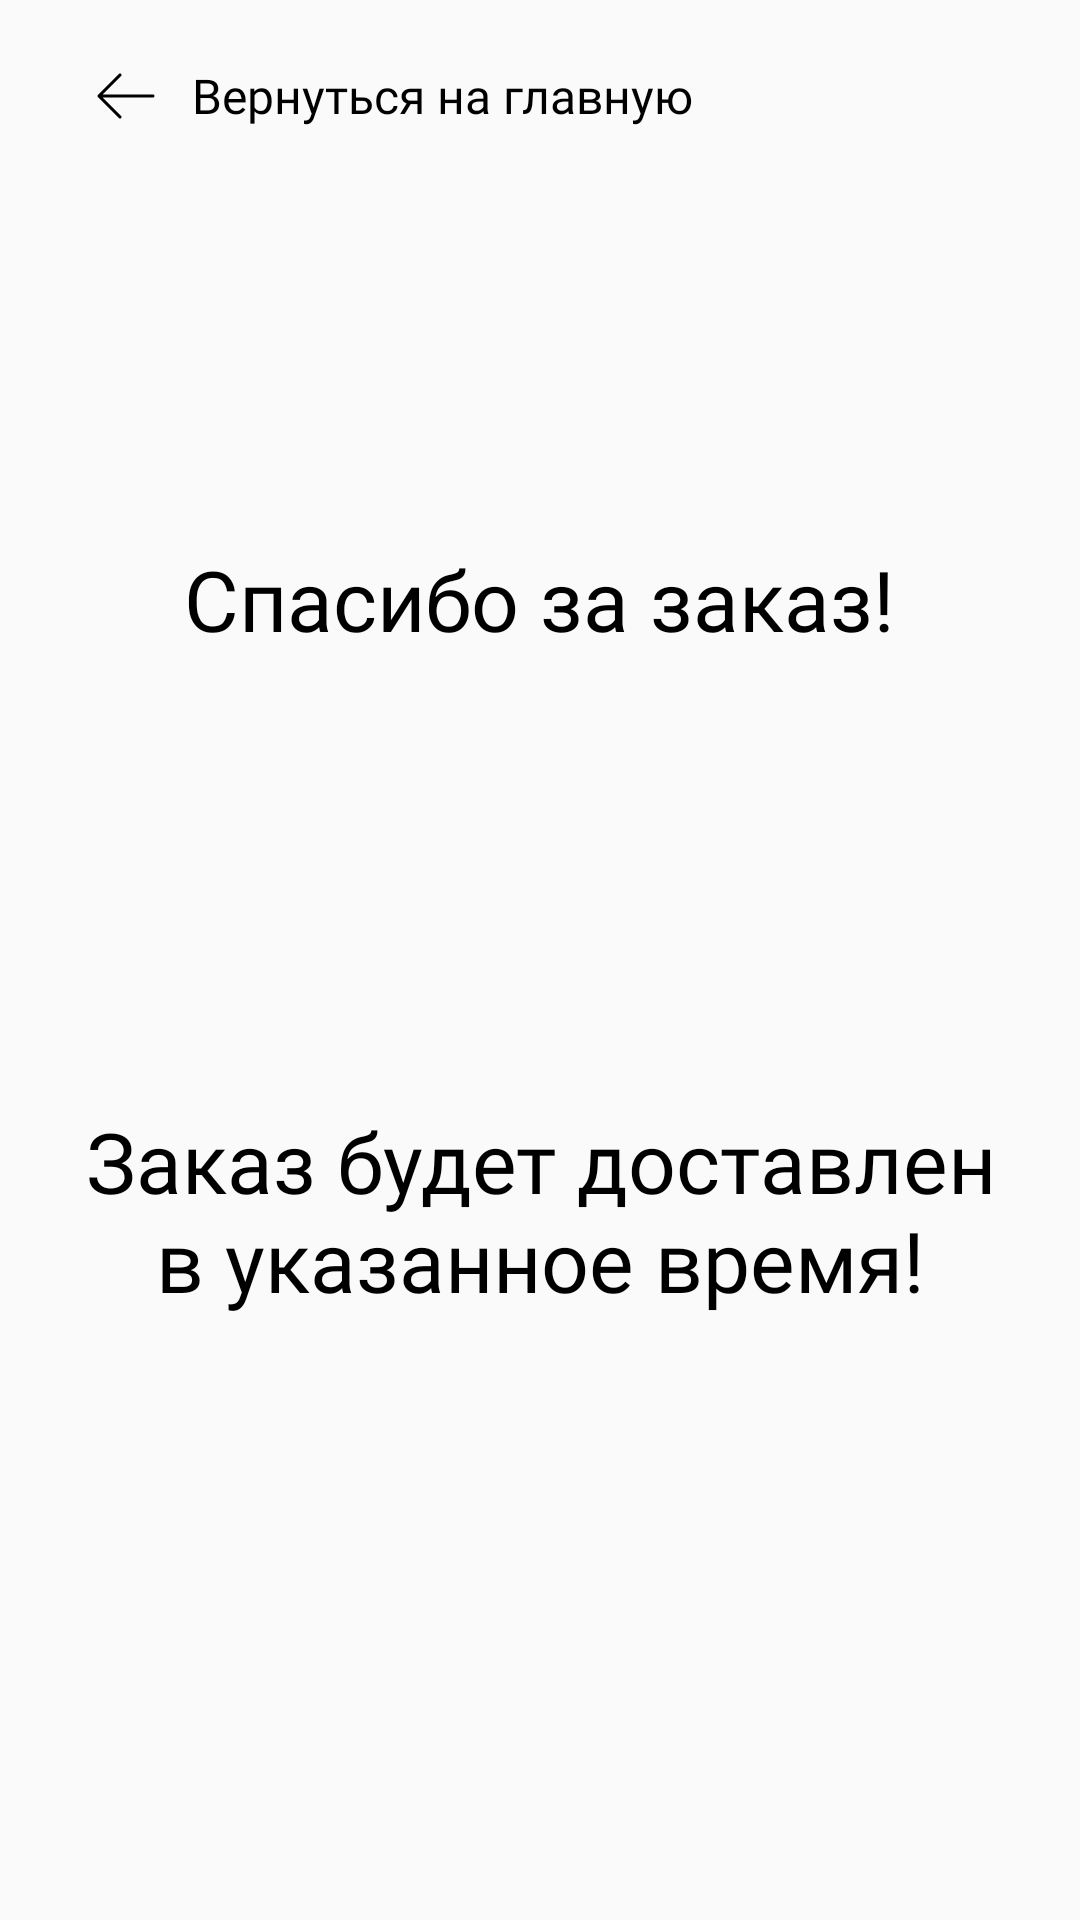

Locate icon controls on the screen. Image size 1080 x 1920, boxes as [x1=x1, y1=y1, x2=x2, y2=y2].
arrow left: [x1=97, y1=73, x2=155, y2=119]
